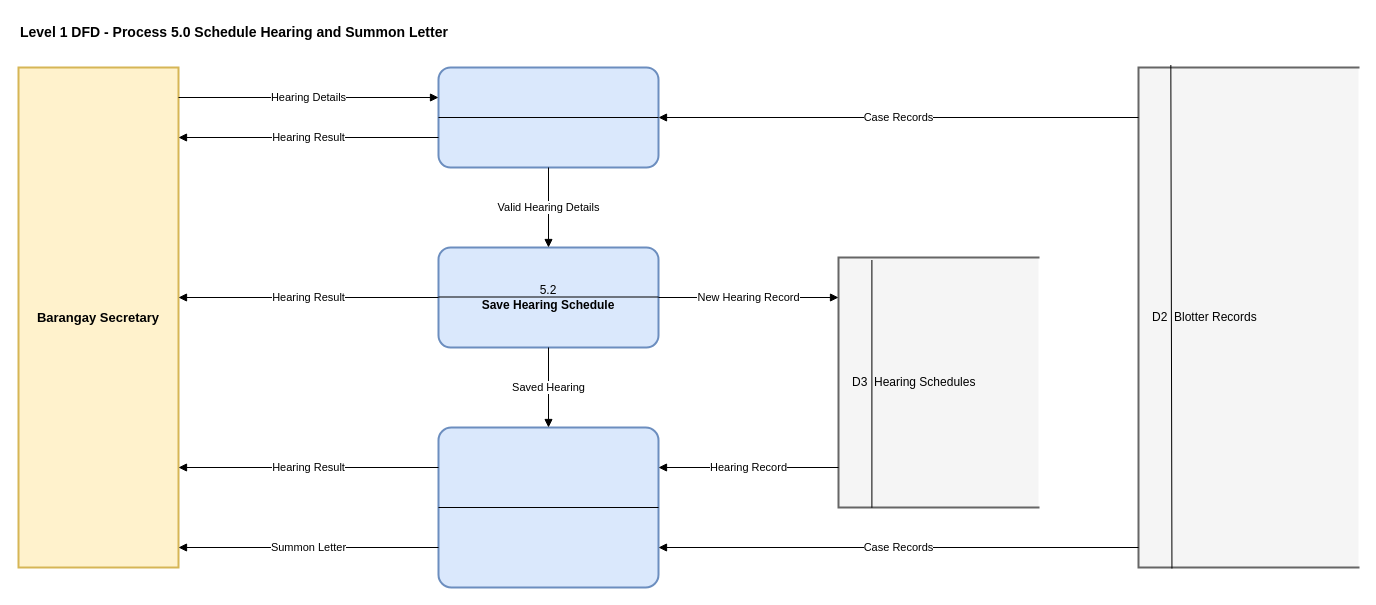
Some shapes in this 1376 by 605 pixel diagram are drawn without their labels. The centre of each missing label's shape, as x and y in pixels:
"5.1 Check Hearing Request" belongs at [548,117].
"5.3 Generate Summon Letter" belongs at [548,507].
